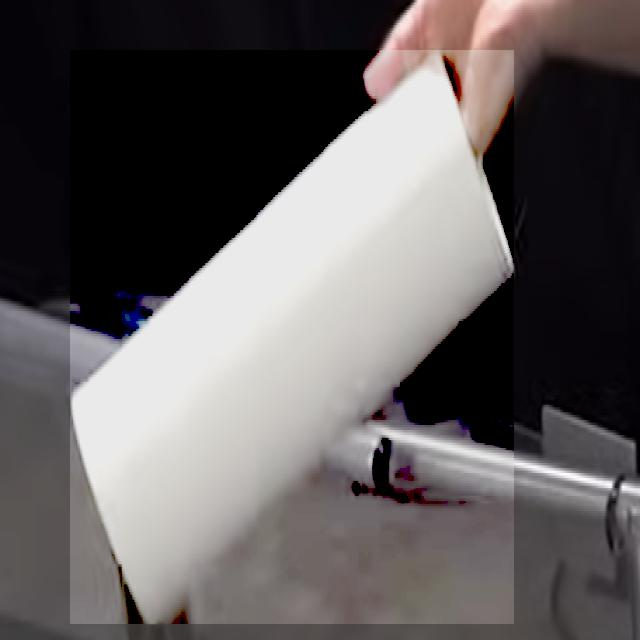Coral: (70, 50, 514, 624)
